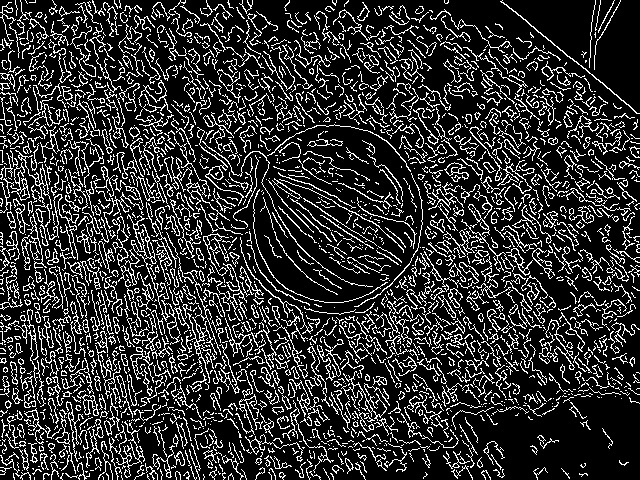onion: (228, 113, 436, 323)
